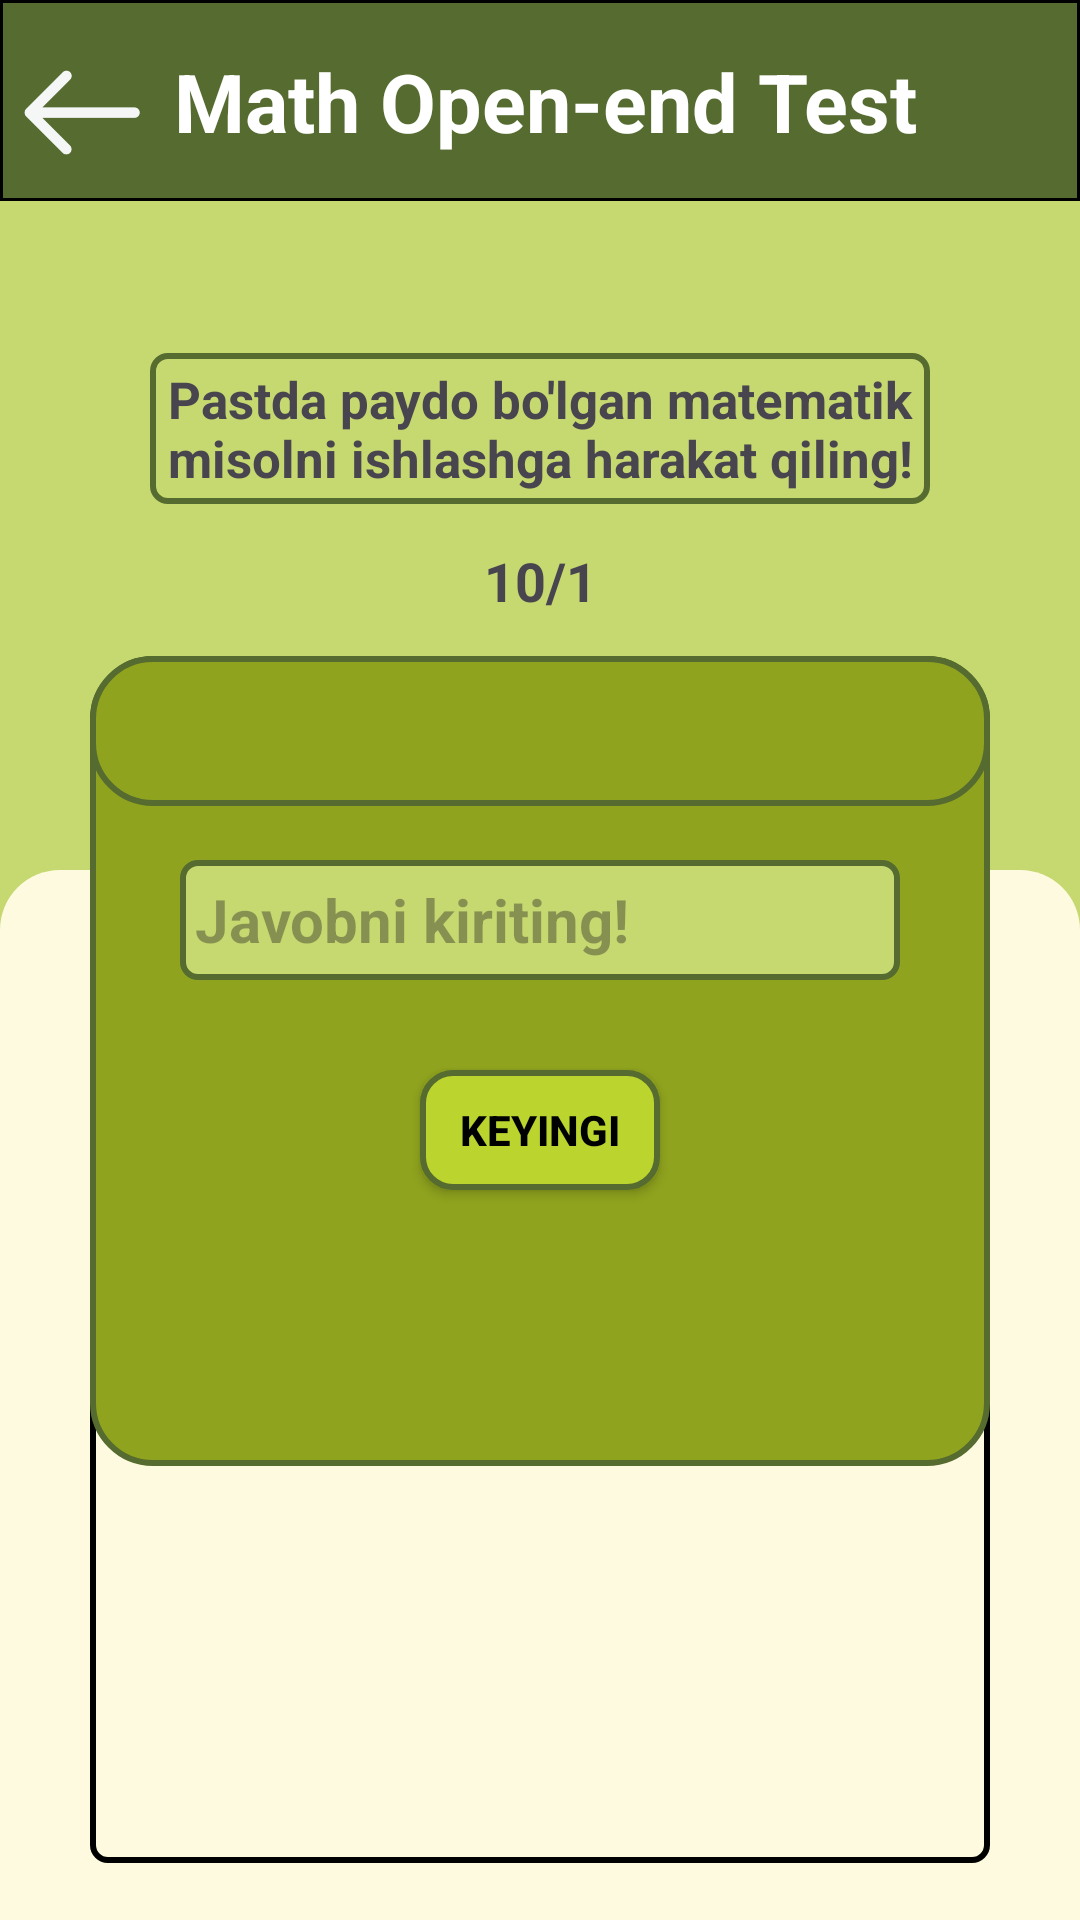

Screen size 1080w x 1920h. Icon name, then its box in pixels as detection(x1, y1, x2, y2):
bacl: detection(24, 70, 140, 155)
